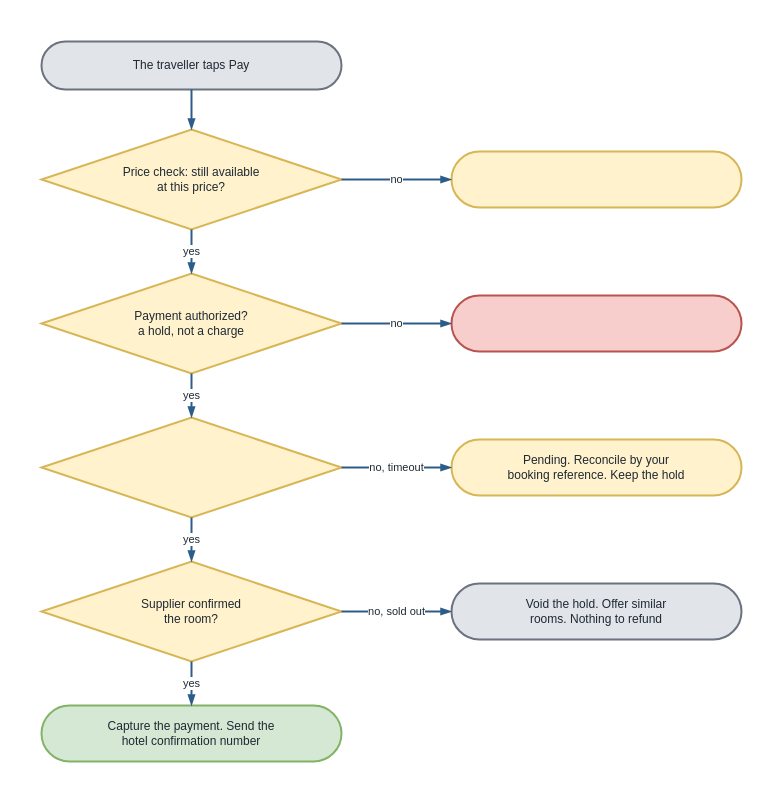
Some shapes in this 782 by 802 pixel diagram are drawn without their labels. The centre of each missing label's shape, as x and y in pixels:
"Declined. The booking is never attempted" belongs at point 596,323.
"Did the supplier answer?" belongs at point 191,467.
"Show the new price or similar rooms. Nothing charged" belongs at point 596,179.
